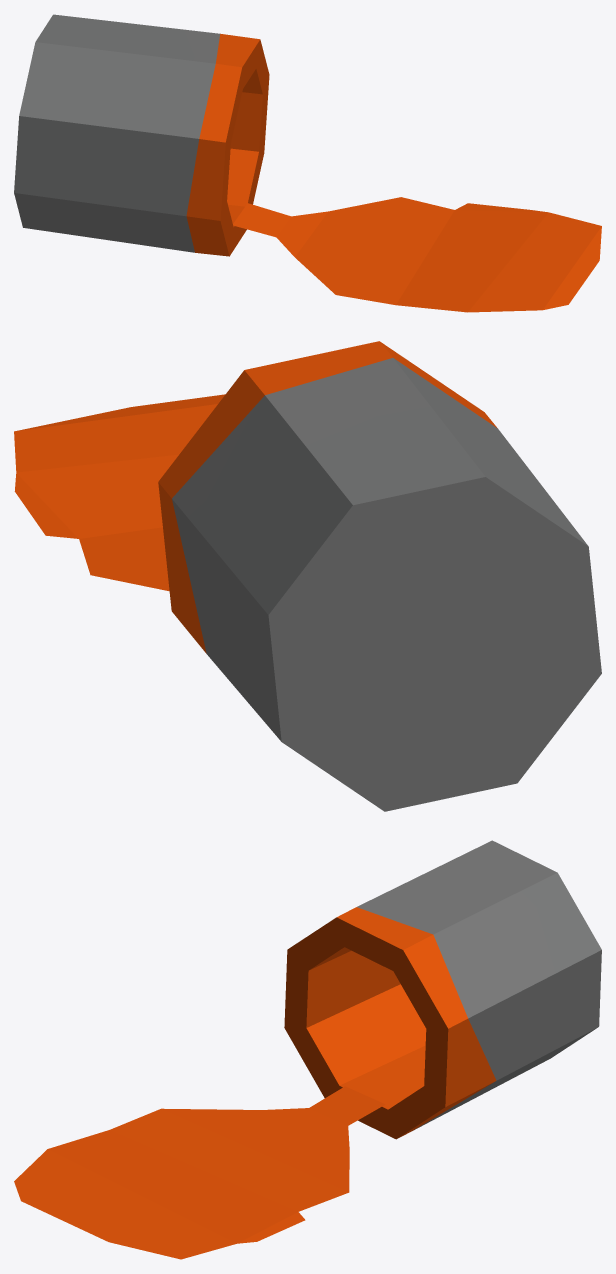
File: thungson3.fbx
3 views of the same model, one above another, from view 1: azimuth 30°, elevation 25°; view 2: azimuth 150°, elevation 25°; view 3: azimuth 270°, elevation 25° (orthographic). The views are drawn at different scales.
Parts seen in each view (by area): view 1: thungson3; view 2: thungson3; view 3: thungson3.
Boxes of the visible parts, box(x1,y1,x2,y2) form: thungson3: box(14, 14, 601, 312); thungson3: box(14, 341, 601, 811); thungson3: box(14, 840, 601, 1259).
Size of the model in its own units: 148 by 58.89 by 149.
